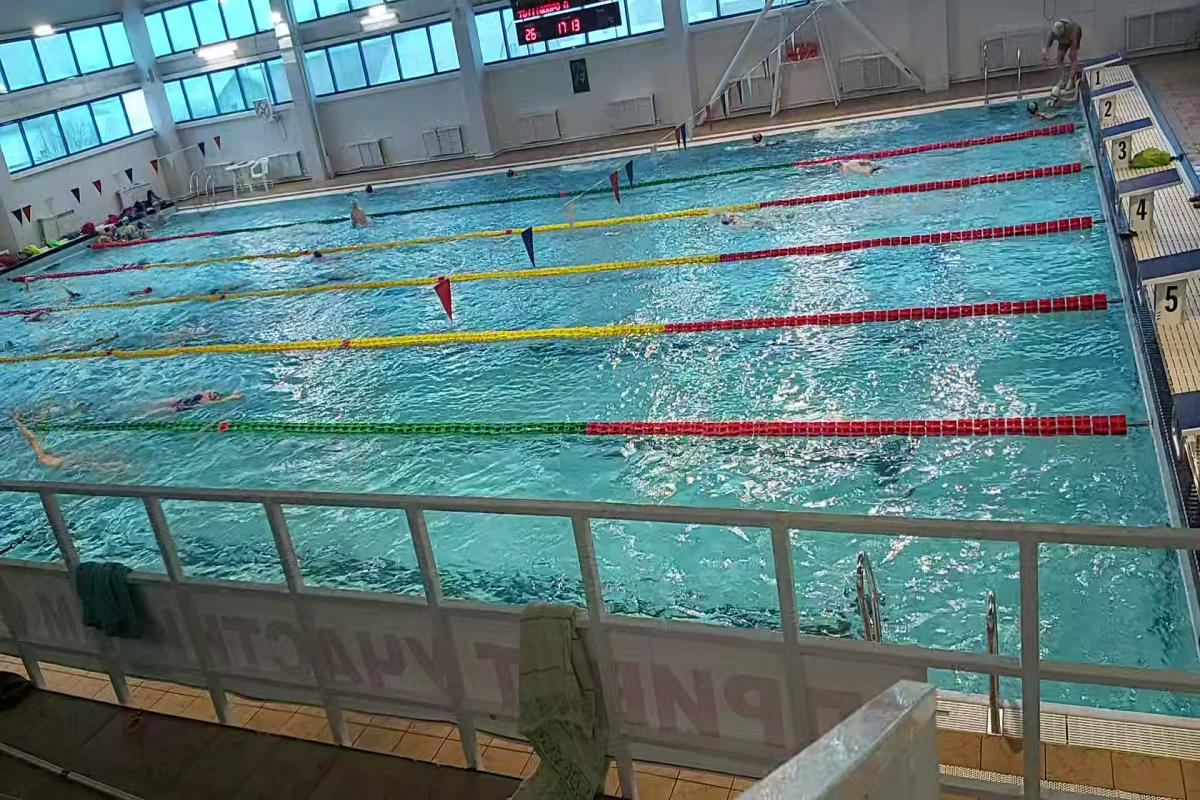swimmer: (15, 426, 134, 477), (136, 380, 248, 412), (702, 211, 792, 236), (820, 150, 899, 176), (335, 192, 378, 235), (300, 245, 345, 270)
